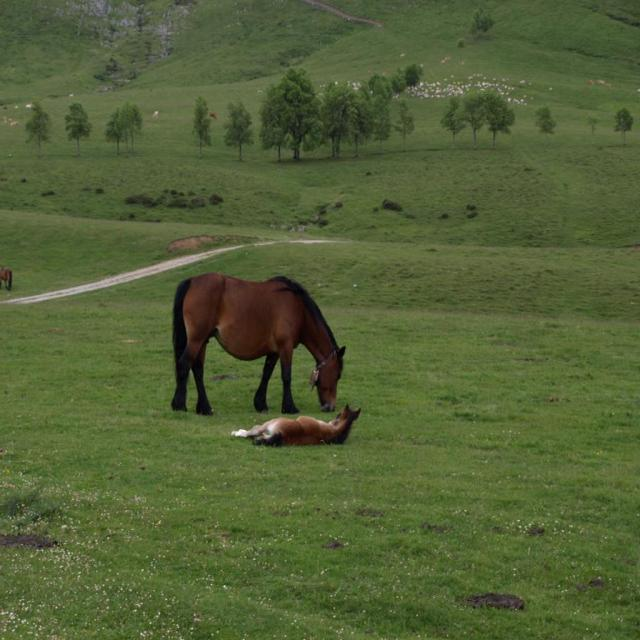Horse: (169, 274, 347, 413), (231, 405, 363, 450)
